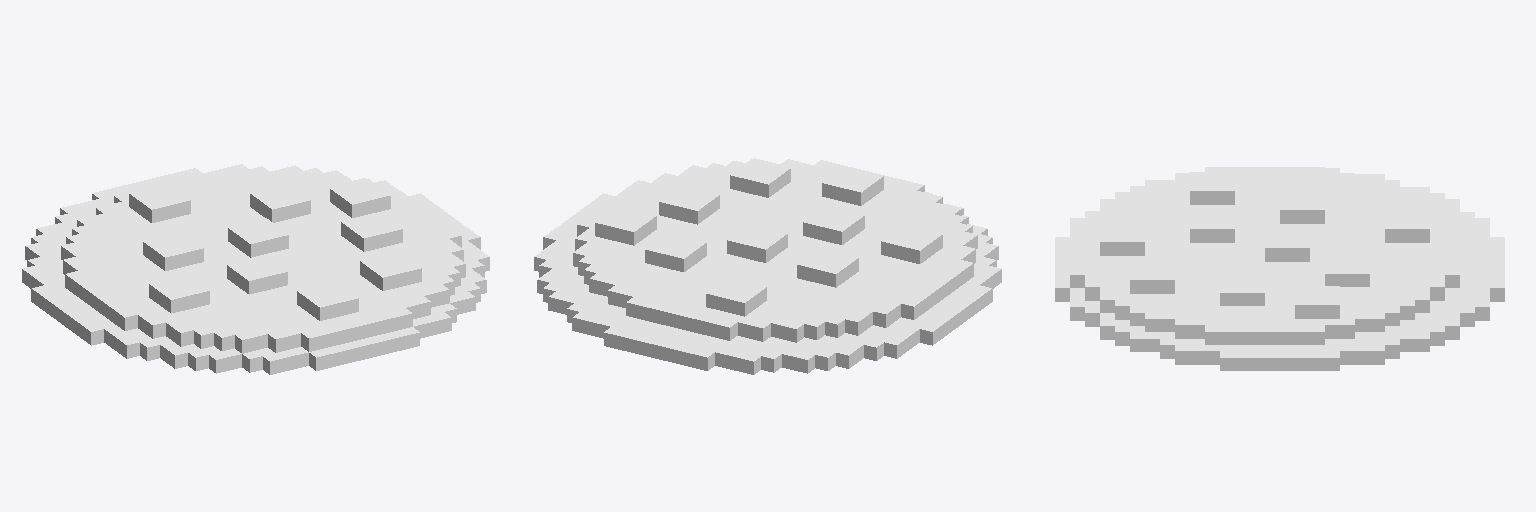
The model's file is 10_inch_pizza.obj.
3 renders of one model, left to right at view 1: azimuth 30°, elevation 25°; view 2: azimuth 150°, elevation 25°; view 3: azimuth 270°, elevation 25°, orthographic.
Visible parts, largest first — view 1: 10_inch_pizza; view 2: 10_inch_pizza; view 3: 10_inch_pizza.
Boxes of the visible parts, <box> form: 10_inch_pizza: <box>22,164,489,374</box>; 10_inch_pizza: <box>534,158,1001,374</box>; 10_inch_pizza: <box>1055,167,1504,370</box>.
Bounding box in the file's own units: 30 × 3 × 30.